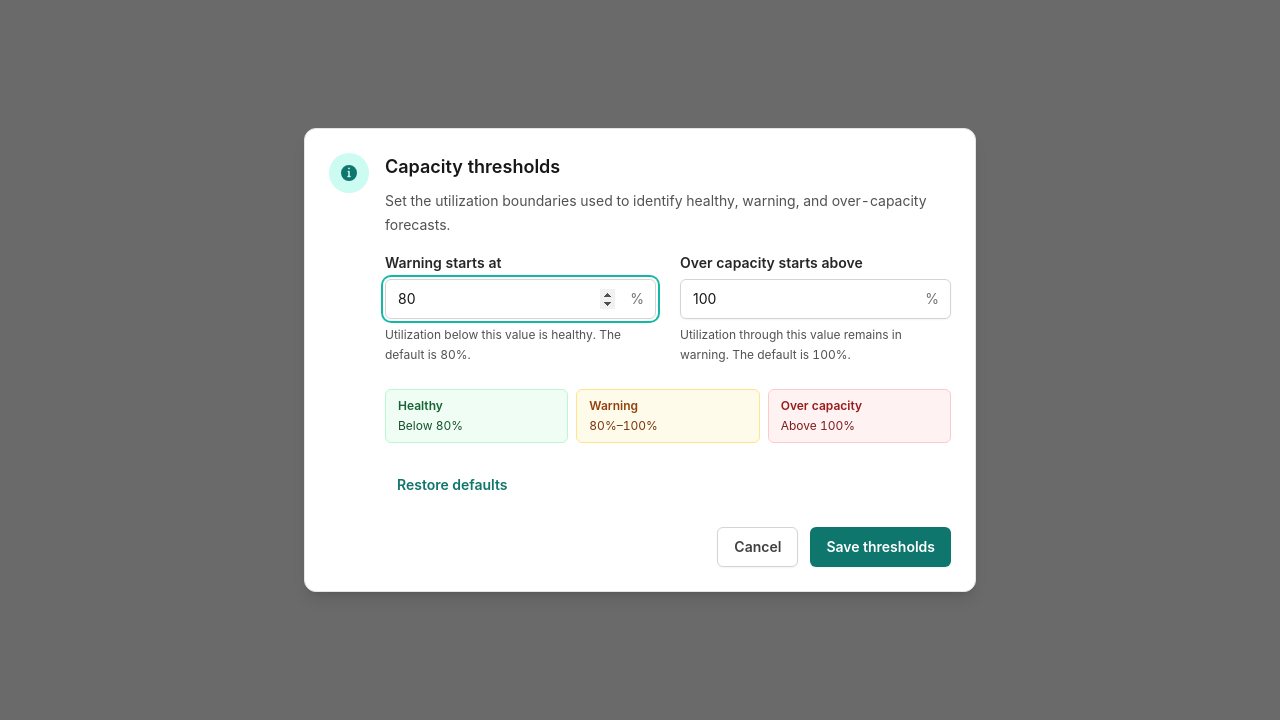
Test: ThresholdSettingsDialog › shows default thresholds and restores them after draft values are changed
Expected: the number field labelled "Over capacity starts above" holds "100", [680,279,951,319]
Replace the text in the number field labelled "Warning starts at" with "65": (520, 299) [385,279,656,319]
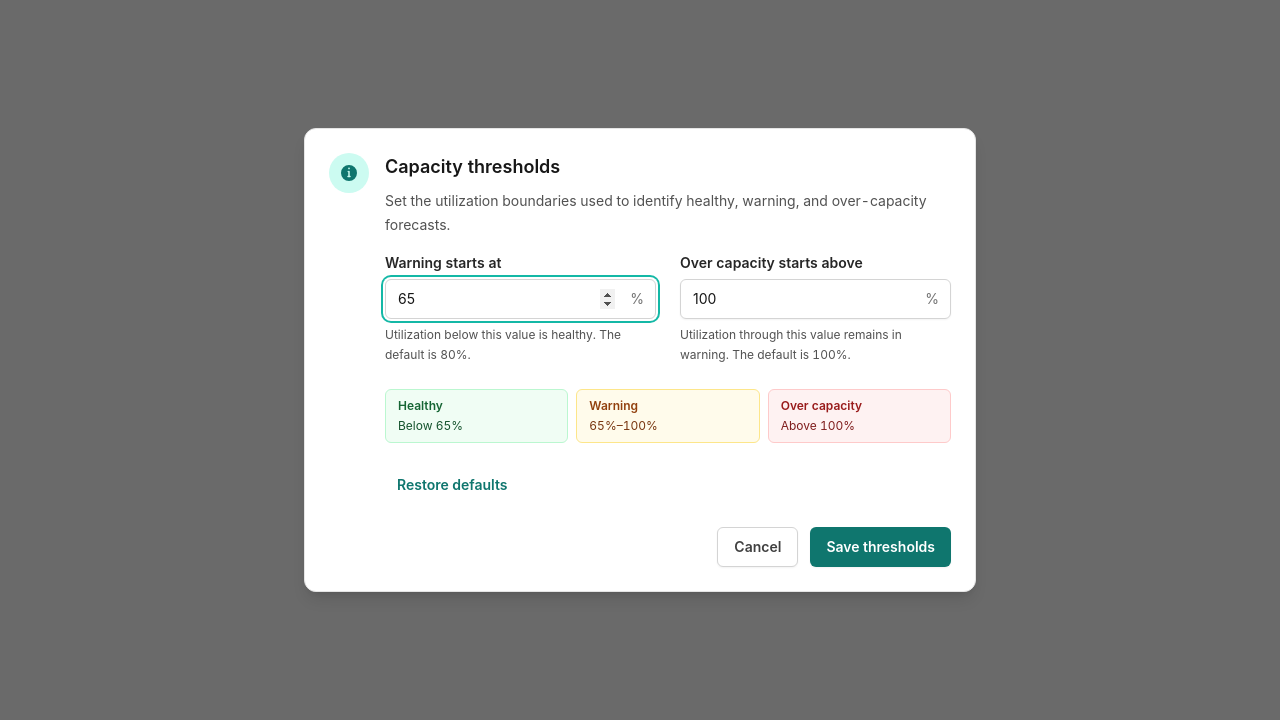
Clear the number field labelled "Over capacity starts above": (816, 299) [680,279,951,319]
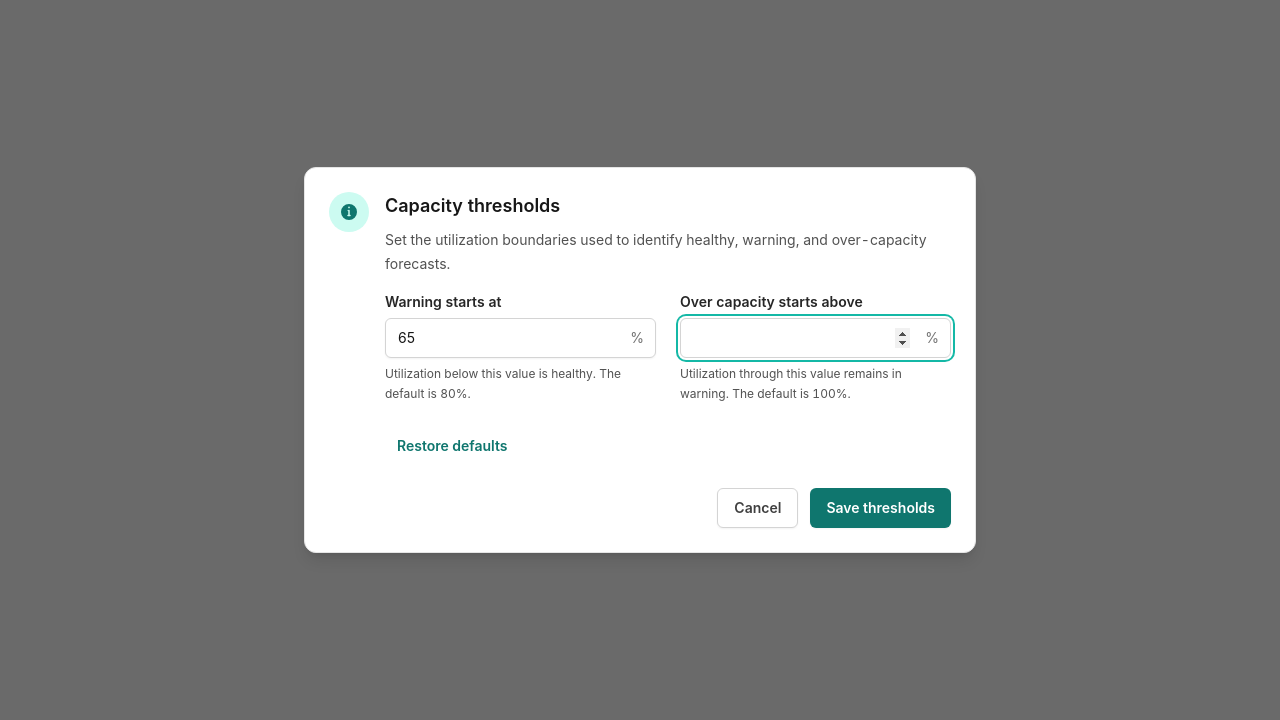
In the number field labelled "Over capacity starts above": (816, 338) [680,318,951,358], type "125"
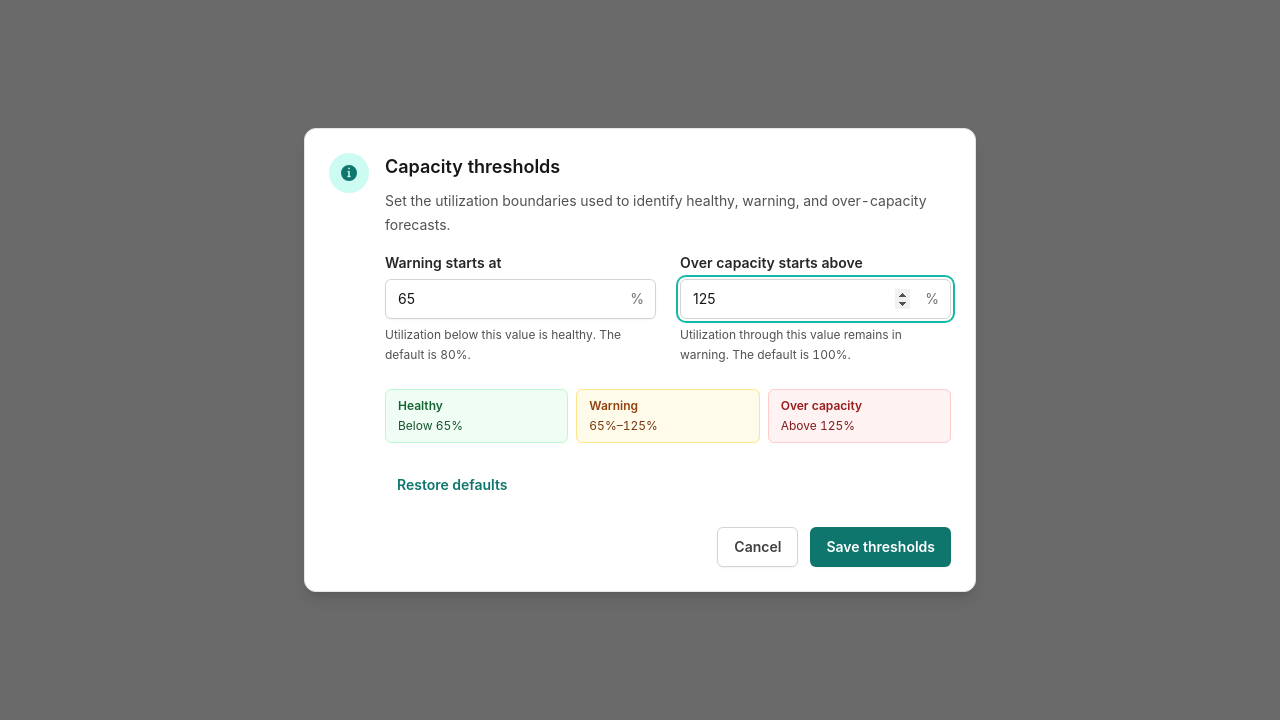
Click the button "Restore defaults": (452, 485) [385,467,520,503]
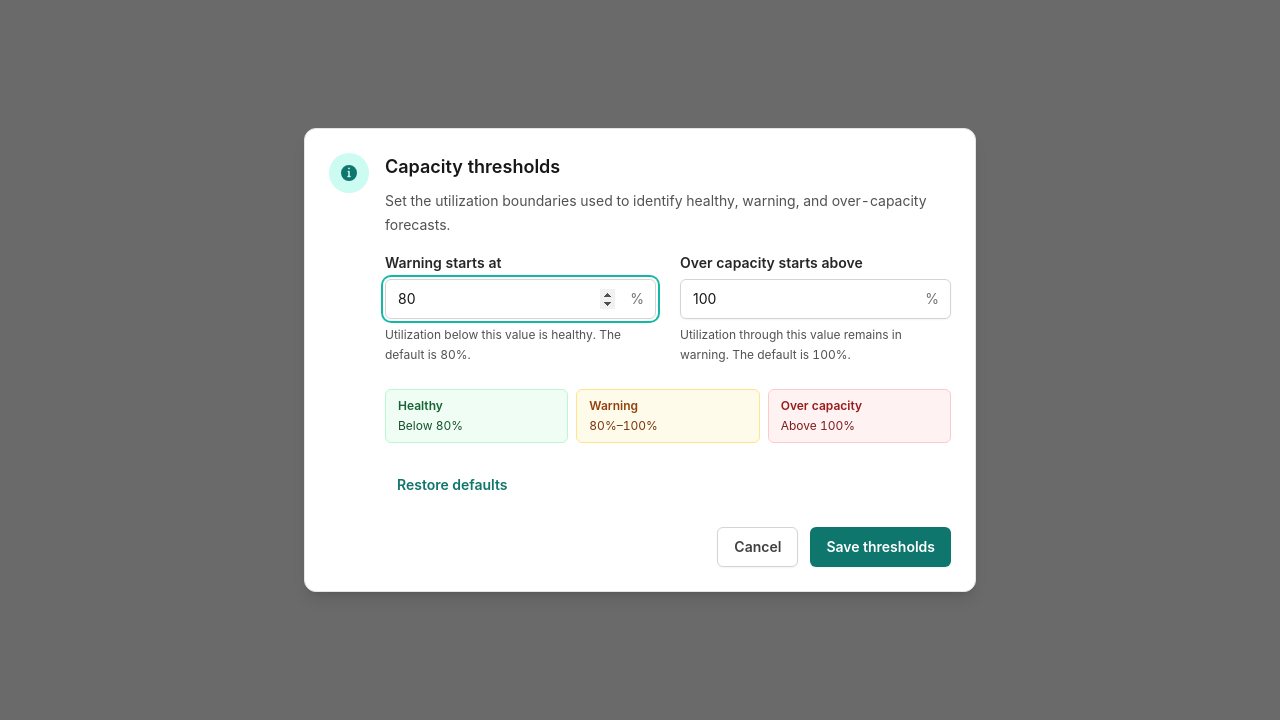
Expected: the number field labelled "Warning starts at" holds "80", [385,279,656,319]
Expected: the number field labelled "Over capacity starts above" holds "100", [680,279,951,319]
